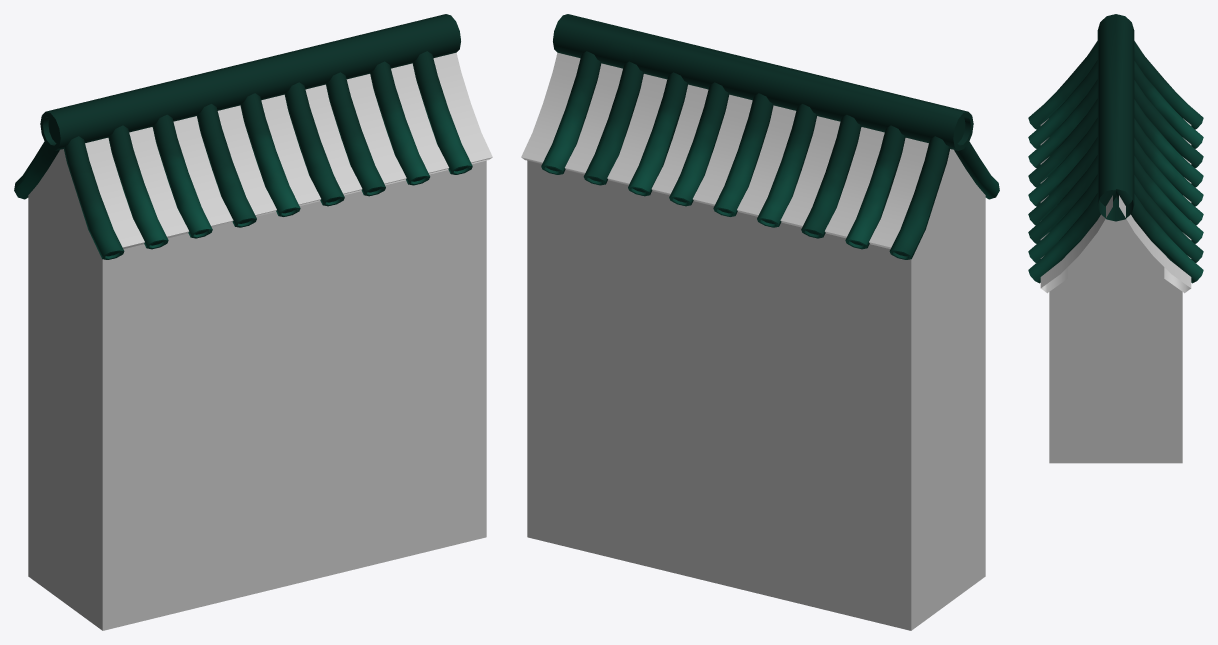
The model's file is Wall_End.fbx.
3 views of the same model, side by side, from view 1: azimuth 30°, elevation 25°; view 2: azimuth 150°, elevation 25°; view 3: azimuth 270°, elevation 25° (orthographic). The views are drawn at different scales.
Parts seen in each view (by area): view 1: B1_Walls_End; view 2: B1_Walls_End; view 3: B1_Walls_End.
Boxes of the visible parts, x1,y1,x2,y2 form: B1_Walls_End: [14, 14, 492, 630]; B1_Walls_End: [521, 14, 999, 630]; B1_Walls_End: [1028, 14, 1203, 463].
Size of the model in its own units: 715 by 843 by 303.
